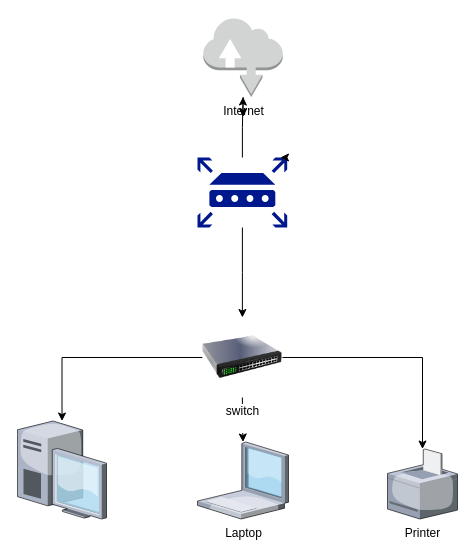
Some shapes in this 474 by 557 pixel diagram are drawn without their labels. The shapes that lost their labels are listed below. From the top down, each one's box as (x1, y1, x2, y2) in pixels, then its label:
(197, 157, 287, 227): Router
(17, 420, 106, 518): Desktop
